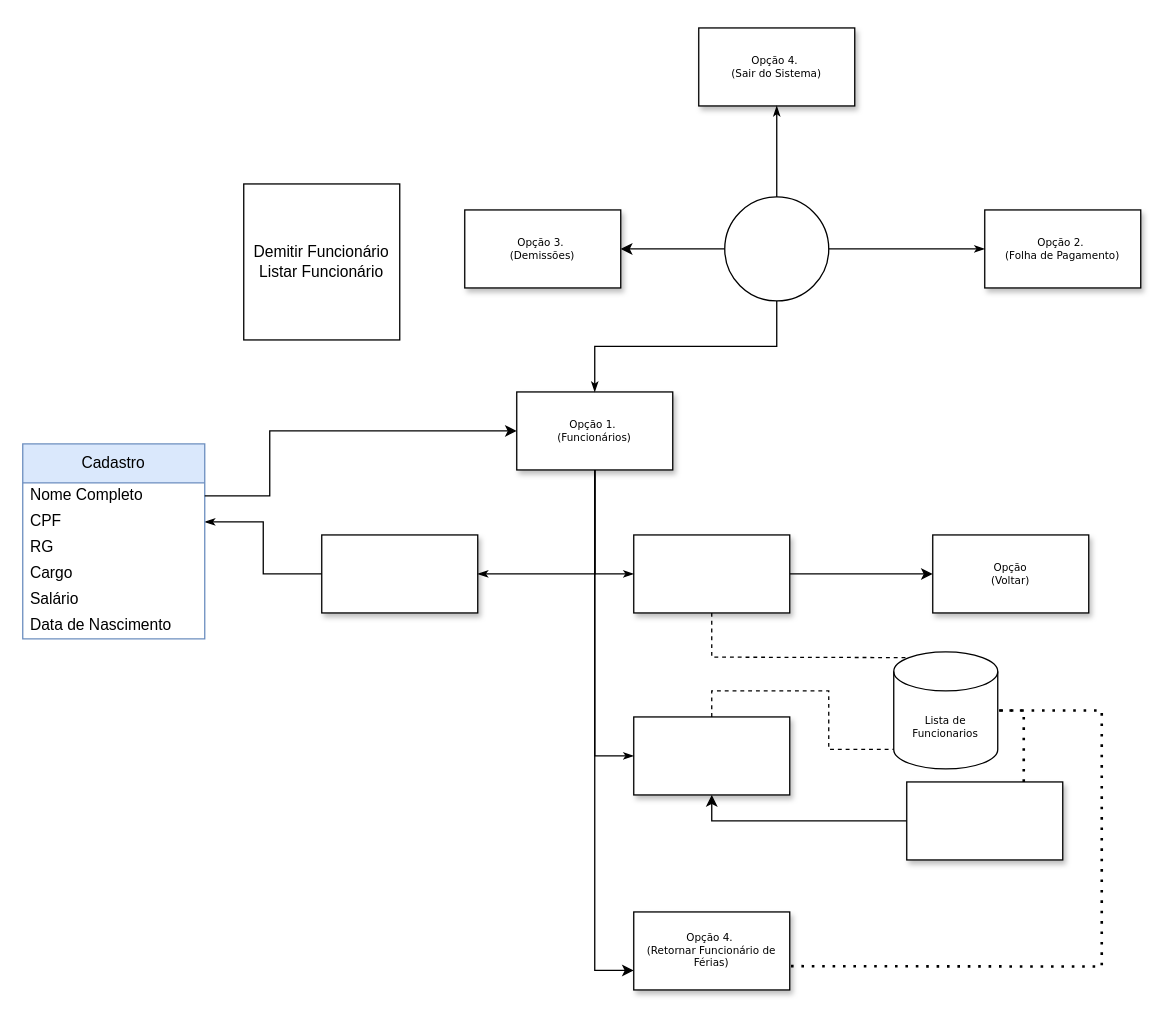
Image size: 1171x1022. Some labels were removed from this diagram. The centre of each missing label's shape, as x and y in pixels:
Opção 1. (Listar Funcionários): point (712, 575)
Opção 2. (Admitir Funcionario): point (400, 575)
Opção 3. (Solicitar Férias): point (712, 757)
Opção. (Listar Funcionário de Férias): point (985, 822)
RUN: point (776, 248)
